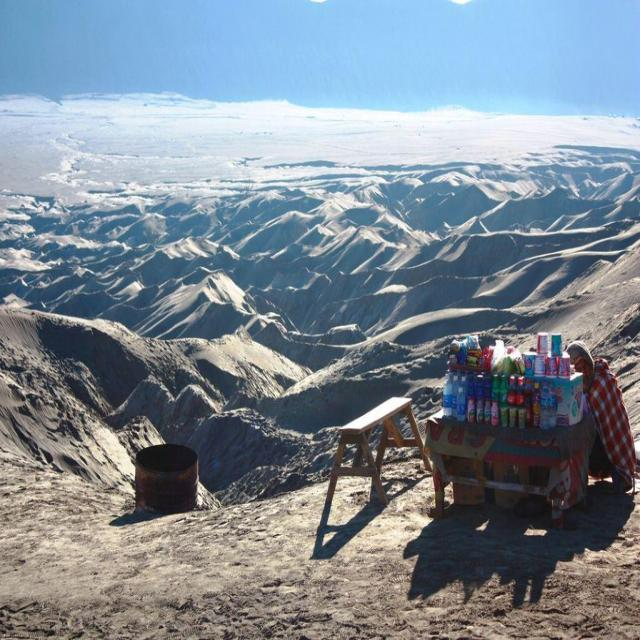Table: (326, 396, 432, 504)
